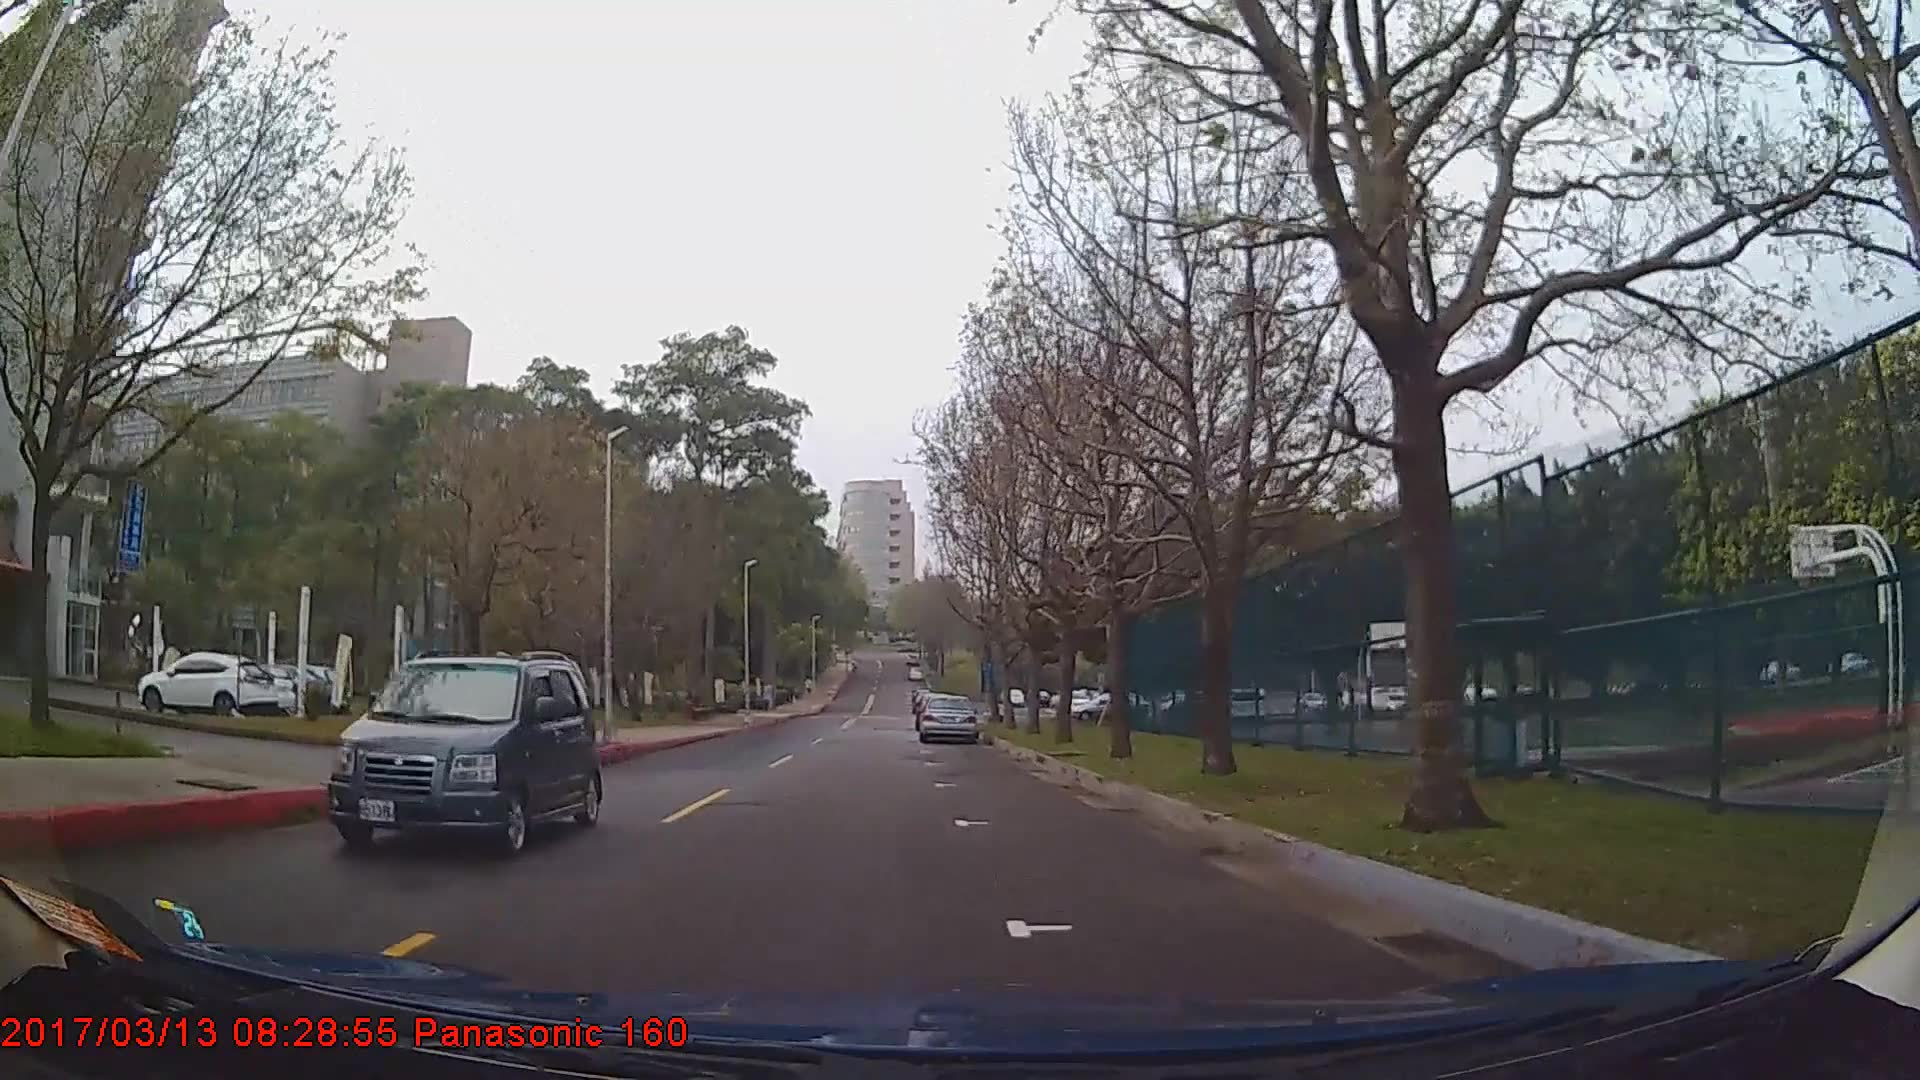vehicle: (323, 650, 603, 861), (135, 649, 274, 715), (916, 691, 978, 742)
